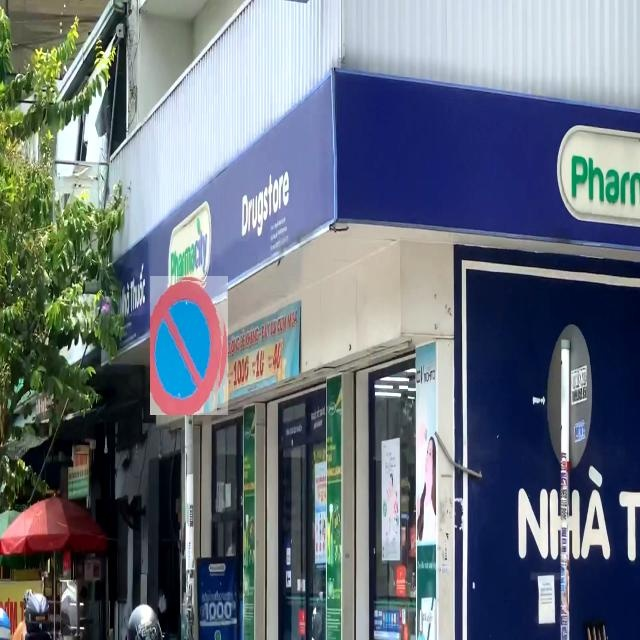bien_cam: (150, 276, 228, 415)
